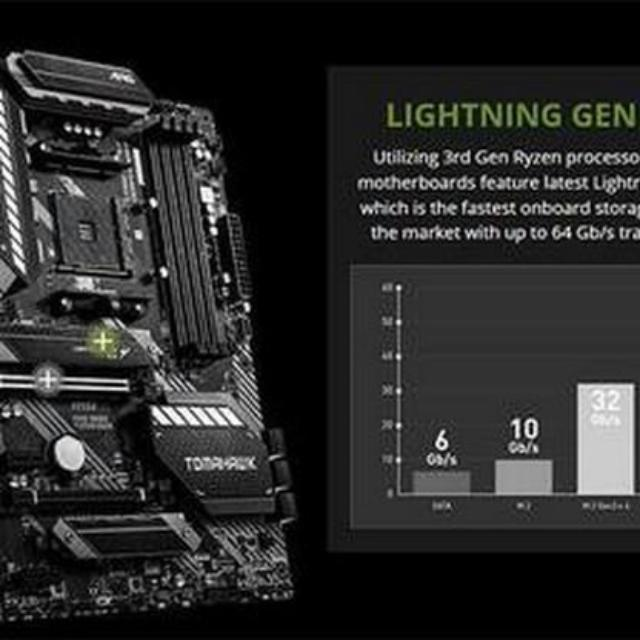Mainboard: (0, 52, 308, 640)
